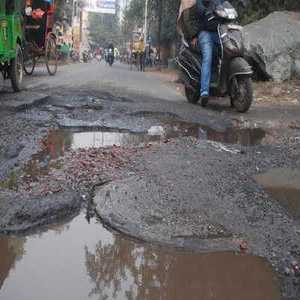pothole: (3, 205, 299, 300), (44, 120, 150, 158), (166, 120, 265, 154)
